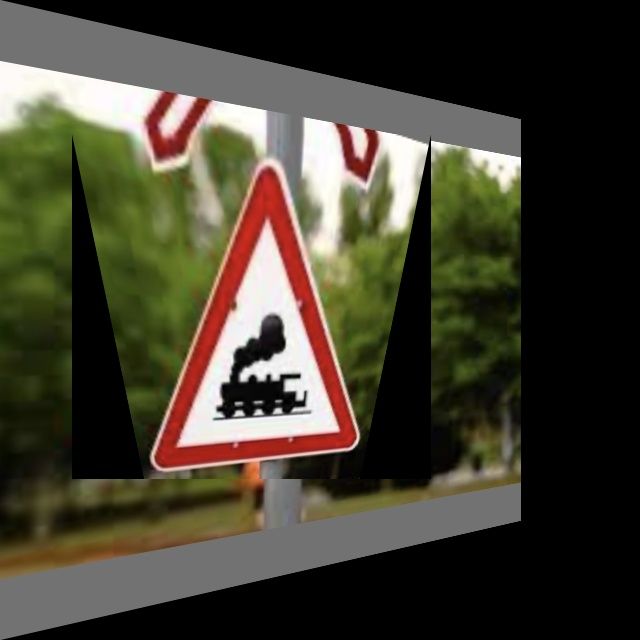Unguarded_Level_Crossing: (72, 134, 431, 479)
